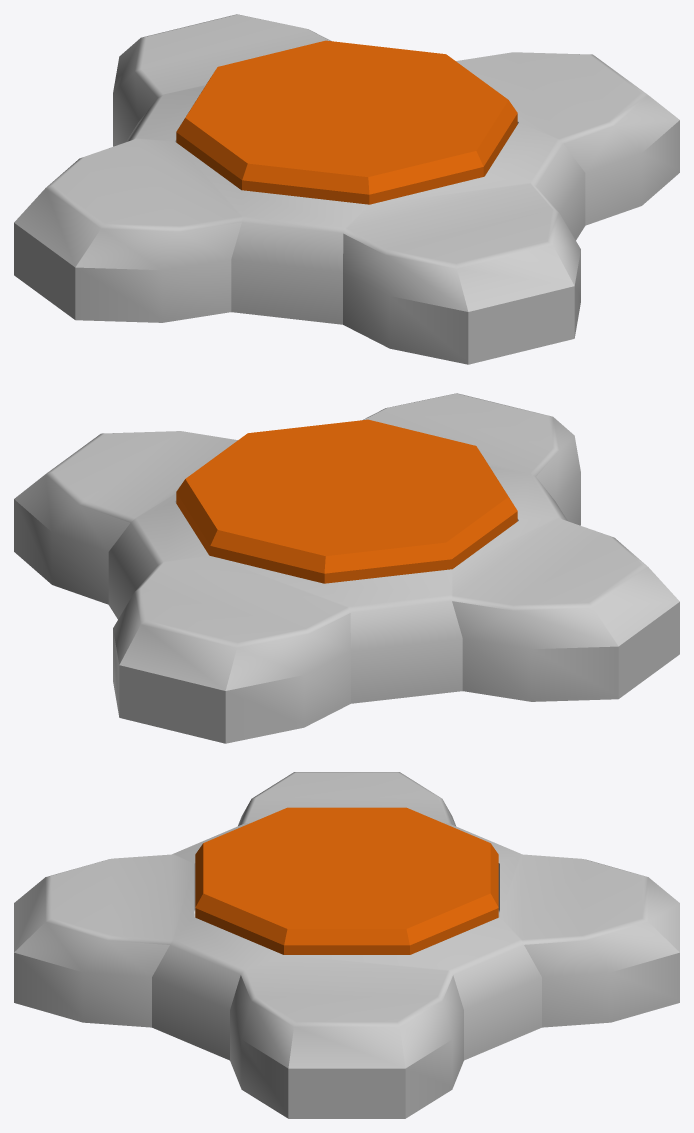
The model's file is GAME3040 - Button.fbx.
3 views of the same model, one above another, from view 1: azimuth 30°, elevation 25°; view 2: azimuth 150°, elevation 25°; view 3: azimuth 270°, elevation 25° (orthographic). The views are drawn at different scales.
Parts seen in each view (by area): view 1: pGear2, pCylinder2; view 2: pGear2, pCylinder2; view 3: pGear2, pCylinder2.
Part boxes in pixels (box(x1,y1,x2,y2)): pGear2: box(14, 14, 679, 364); pCylinder2: box(176, 40, 517, 204); pGear2: box(14, 393, 679, 743); pCylinder2: box(176, 419, 517, 583); pGear2: box(14, 772, 679, 1118); pCylinder2: box(195, 807, 498, 954).
Size of the model in its own units: 2.41 by 0.4409 by 2.41.
